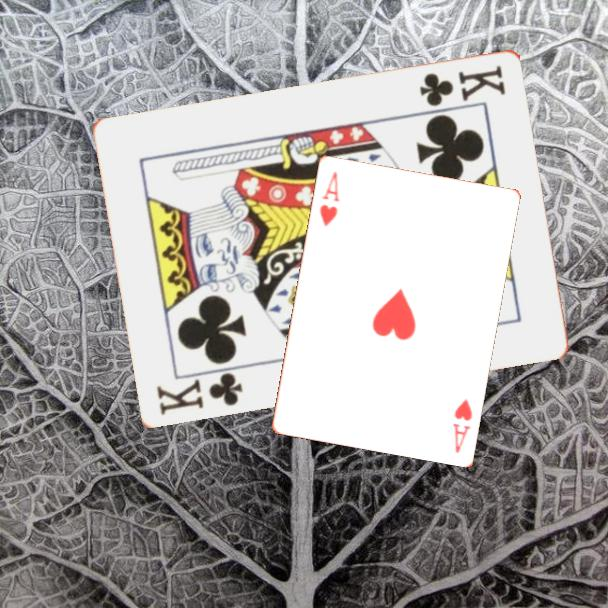c13: (153, 368, 246, 418), (416, 61, 509, 109)
h01: (316, 168, 342, 229), (449, 395, 475, 456)
